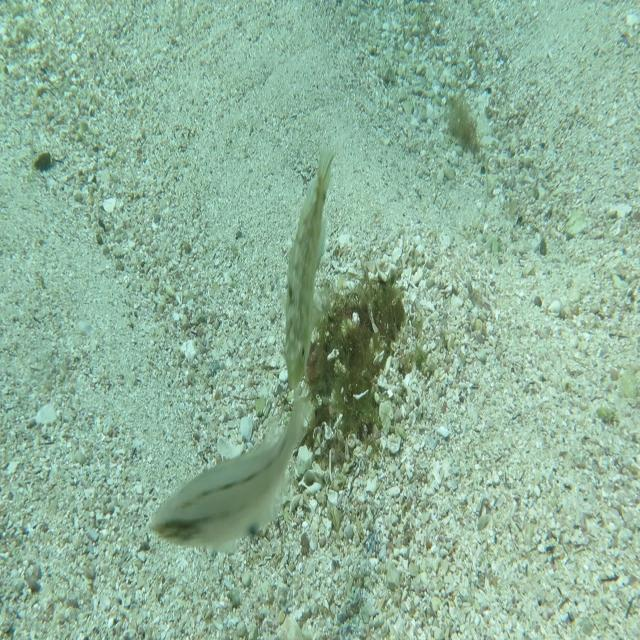CHASE_FLEE: (280, 143, 339, 394)
core_nest: (347, 290, 395, 342)
female: (148, 385, 320, 553)
nest: (274, 241, 419, 478)
